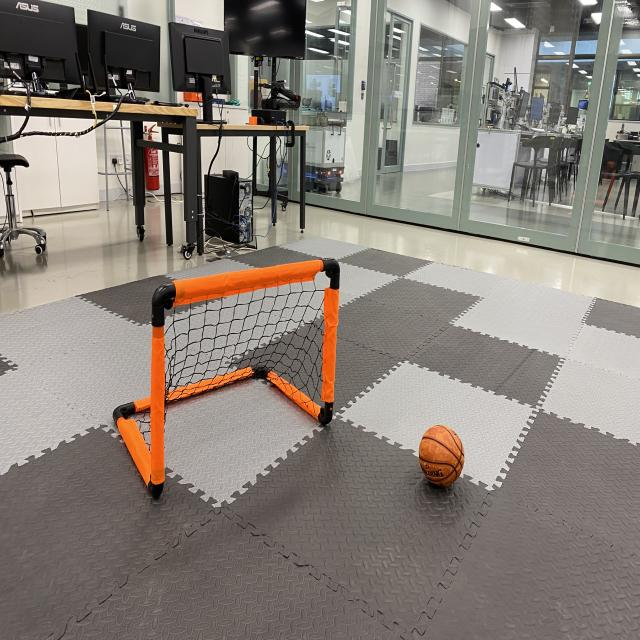ball: (414, 418, 469, 492)
gate: (109, 253, 345, 506)
